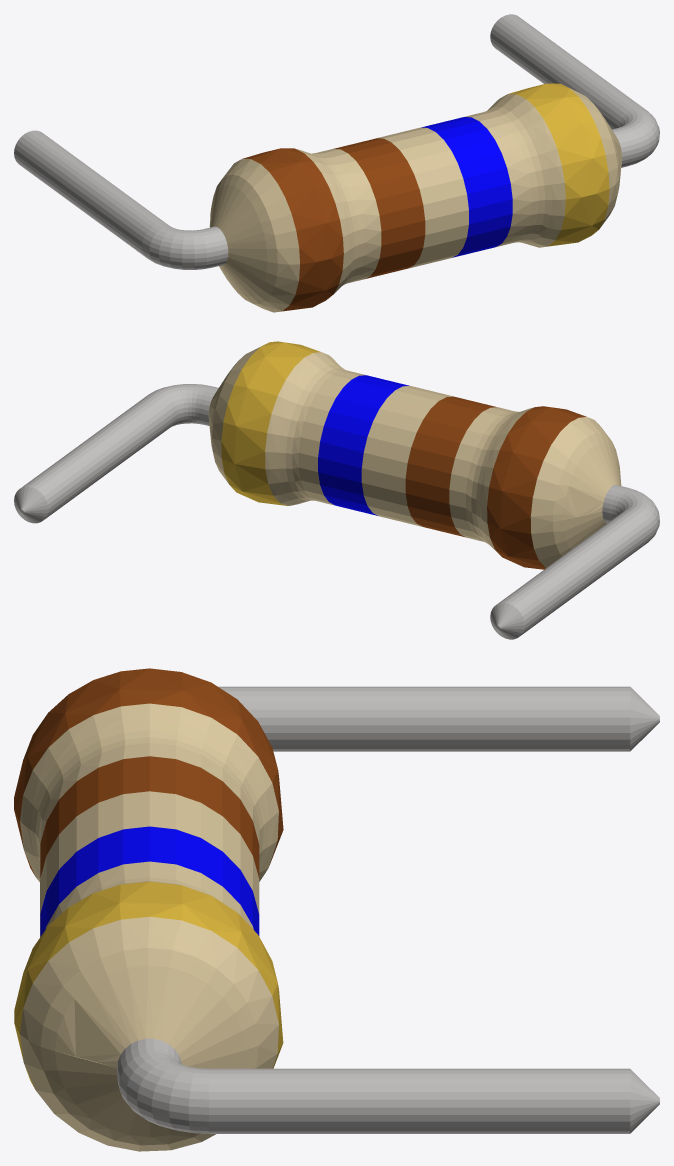
Rendered from Yageo CFR-25 Resistor Axial P7.62mm 11,0 MOhm.obj.
The picture shows the model from 3 angles, top to bottom: view 1: azimuth 30°, elevation 25°; view 2: azimuth 150°, elevation 25°; view 3: azimuth 270°, elevation 25°; orthographic projection. The views are drawn at different scales.
Parts seen in each view (by area): view 1: Yageo_CFR-25_Resistor_Axial_P7.62mm_11,0_MOhm; view 2: Yageo_CFR-25_Resistor_Axial_P7.62mm_11,0_MOhm; view 3: Yageo_CFR-25_Resistor_Axial_P7.62mm_11,0_MOhm.
Boxes of the visible parts, x1,y1,x2,y2 form: Yageo_CFR-25_Resistor_Axial_P7.62mm_11,0_MOhm: (14, 14, 659, 312); Yageo_CFR-25_Resistor_Axial_P7.62mm_11,0_MOhm: (14, 341, 659, 639); Yageo_CFR-25_Resistor_Axial_P7.62mm_11,0_MOhm: (14, 668, 659, 1151).
Size of the model in its own units: 0.0208 by 0.00573 by 0.0138.
